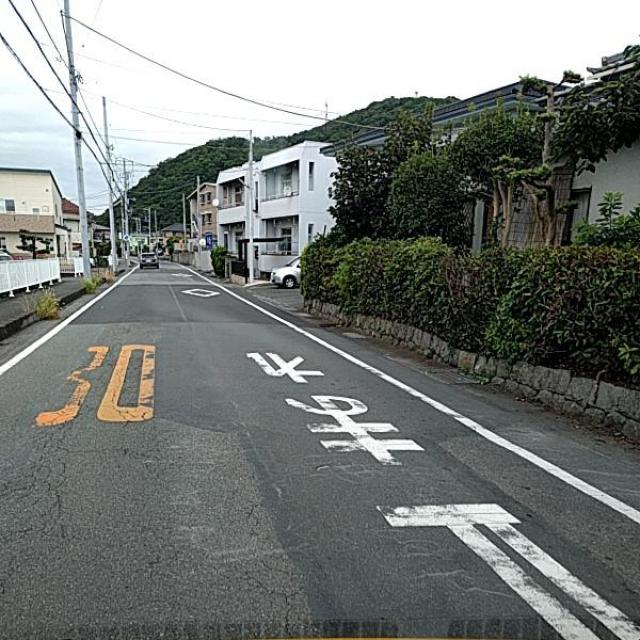Crack: (0, 321, 174, 621)
